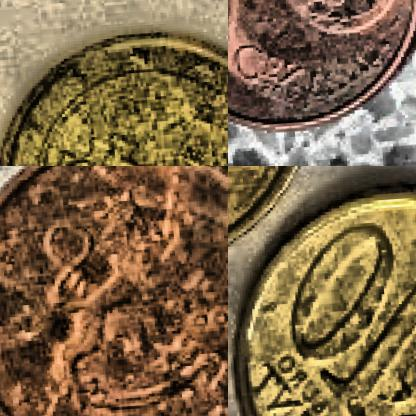coin: (0, 166, 227, 415), (228, 178, 415, 415), (0, 21, 227, 165), (228, 0, 415, 141)
